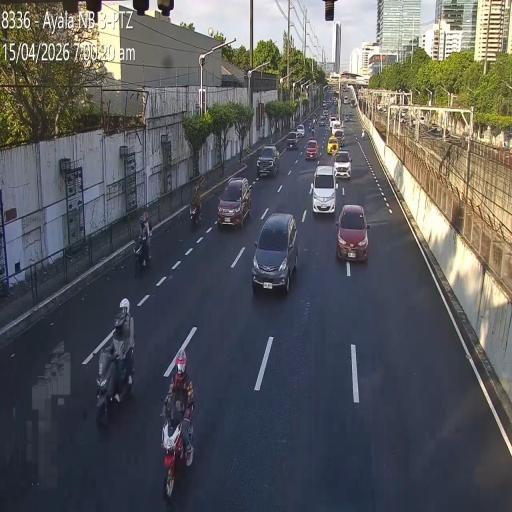Car: (253, 210, 297, 298), (339, 201, 368, 265), (218, 180, 252, 227), (312, 167, 337, 216), (256, 145, 280, 179), (334, 148, 352, 182), (305, 139, 318, 160), (287, 130, 297, 152), (334, 128, 345, 146), (328, 135, 338, 154), (298, 124, 304, 140)
Motor: (160, 348, 197, 498), (97, 297, 137, 417), (134, 220, 154, 274), (190, 180, 202, 237)
Not Accident: (187, 173, 249, 241), (311, 147, 351, 216), (286, 116, 318, 164)
